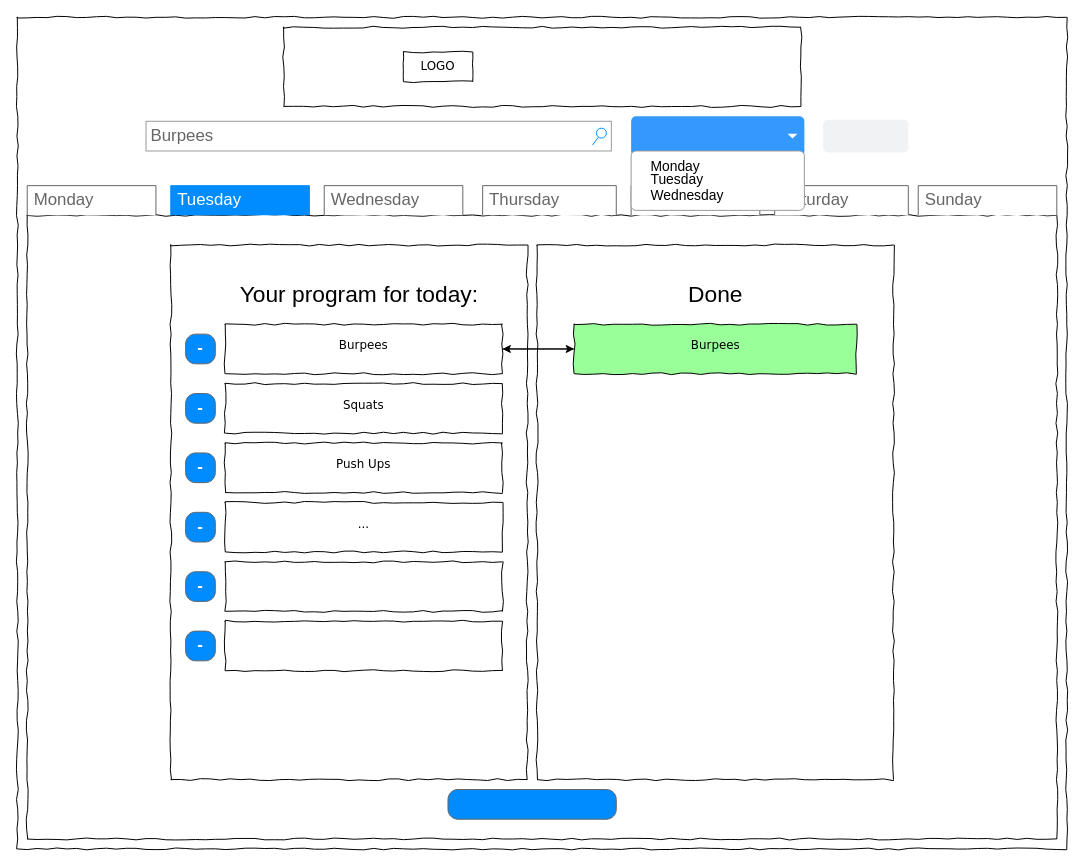
Image size: 1084x866. Some labels were removed from this diagram. Each missing label, with the box of its shape:
Assign: (823, 119, 908, 152)
Assign workout day: (631, 116, 804, 155)
Clear all: (447, 789, 616, 819)
Insulting title: (283, 26, 801, 106)
